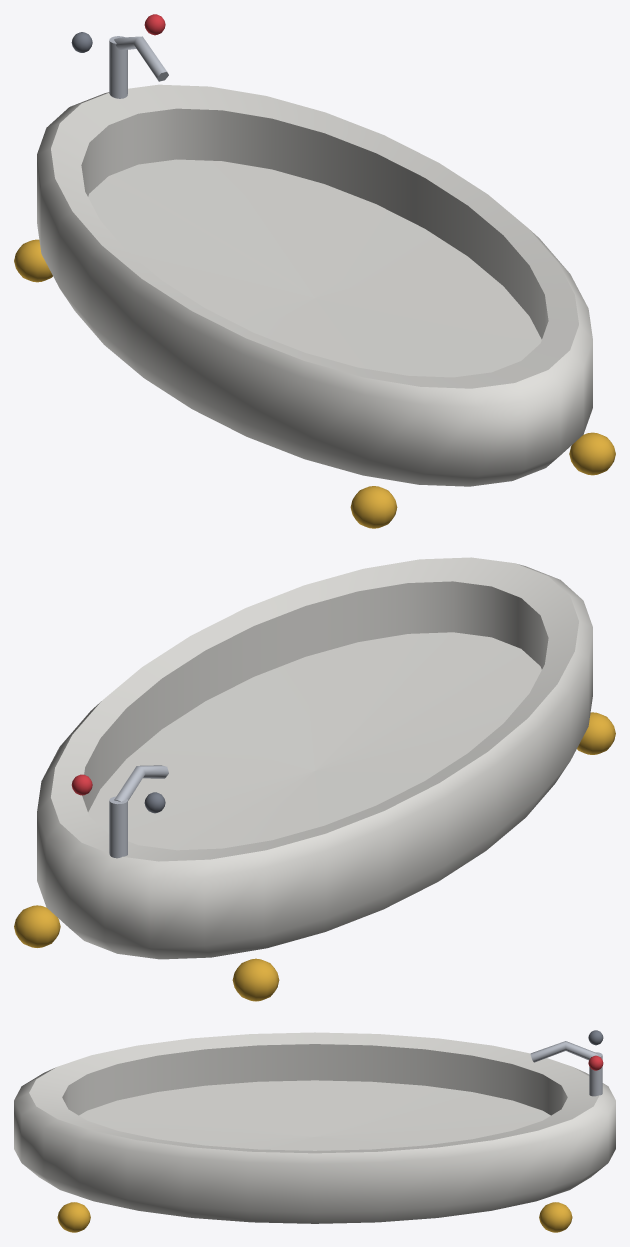
File: bathtub.glb
3 renders of one model, top to bottom at view 1: azimuth 30°, elevation 25°; view 2: azimuth 150°, elevation 25°; view 3: azimuth 270°, elevation 25°, orthographic. The views are drawn at different scales.
Visible parts, largest first — view 1: root; view 2: root; view 3: root.
Boxes of the visible parts, bbox=[...] form: root: bbox=[14, 14, 615, 528]; root: bbox=[14, 557, 615, 1001]; root: bbox=[14, 1030, 615, 1232].
Bounding box in the file's own units: 1.8 × 0.996 × 3.6.
